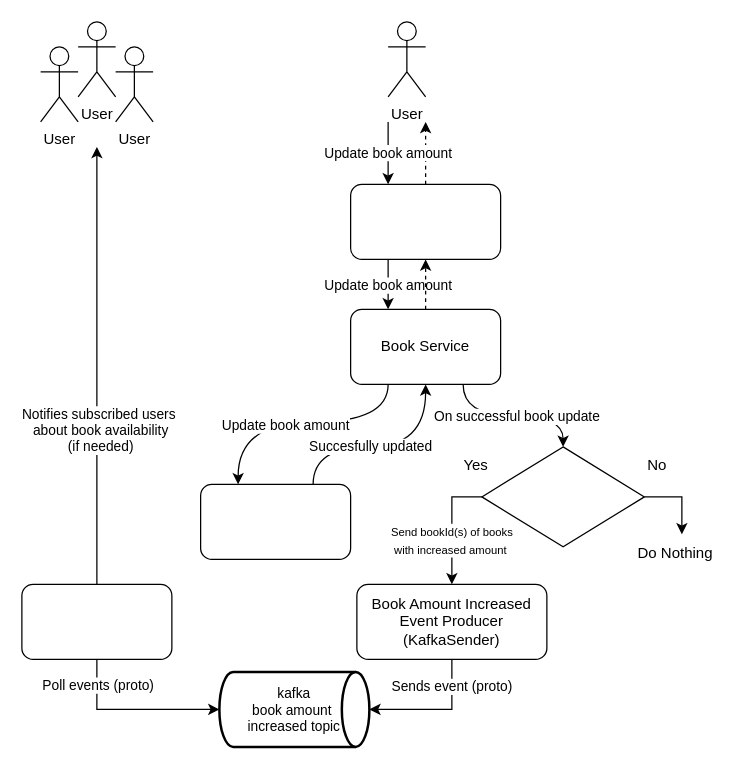
Some shapes in this 741 by 770 pixel diagram are drawn without their labels. Here are the shapes that lost their labels. From the top down, the box of each, then its label:
(349, 183, 501, 259): Book Controller
(481, 446, 644, 547): Is amount increased? (is request delta positive?)
(199, 483, 351, 559): Book Repository
(21, 583, 172, 659): NotificationProcessor (KafkaReciever)
